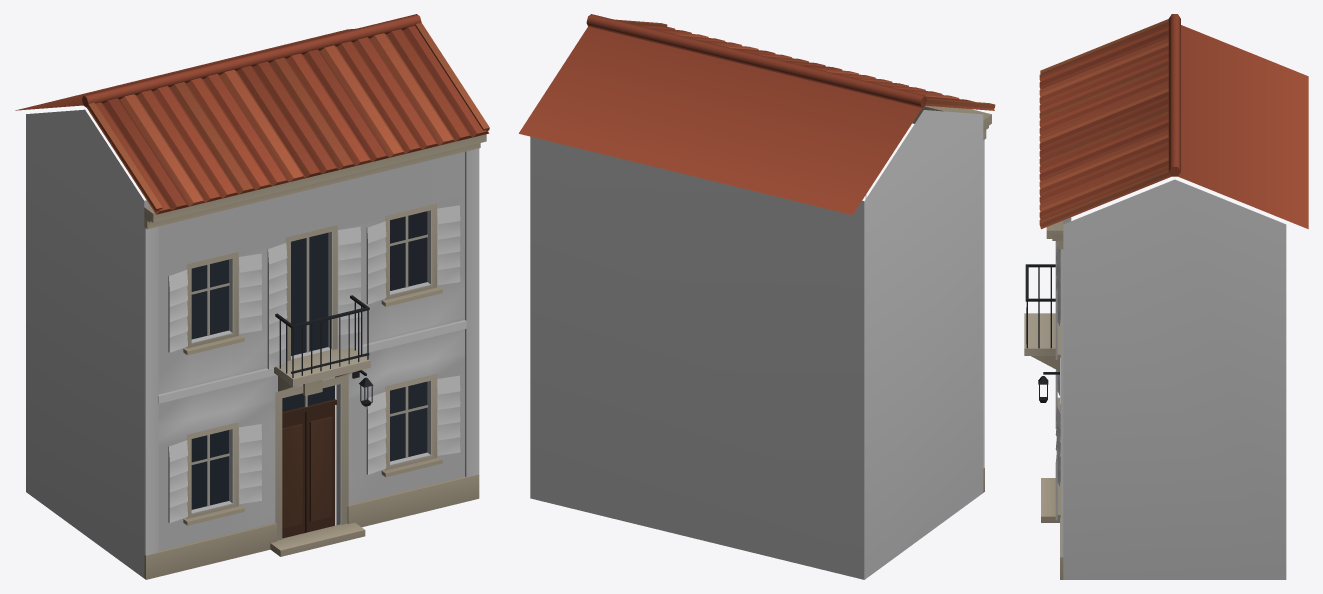
The model's file is plaza-house-e.glb.
3 renders of one model, left to right at view 1: azimuth 30°, elevation 25°; view 2: azimuth 150°, elevation 25°; view 3: azimuth 270°, elevation 25°, orthographic. The views are drawn at different scales.
Visible parts, largest first — view 1: stucco, trim, shutters; view 2: stucco, trim; view 3: stucco, trim, shutters.
Part boxes in pixels (x1=…): stucco: x1=26, y1=109, x2=479, y2=578; trim: x1=15, y1=14, x2=489, y2=579; shutters: x1=168, y1=205, x2=460, y2=522; stucco: x1=530, y1=110, x2=984, y2=579; trim: x1=519, y1=14, x2=995, y2=492; stucco: x1=1060, y1=179, x2=1286, y2=579; trim: x1=1024, y1=14, x2=1308, y2=579; shutters: x1=1055, y1=241, x2=1060, y2=520.
Size of the model in its own units: 6.5 by 8.18 by 5.1.
